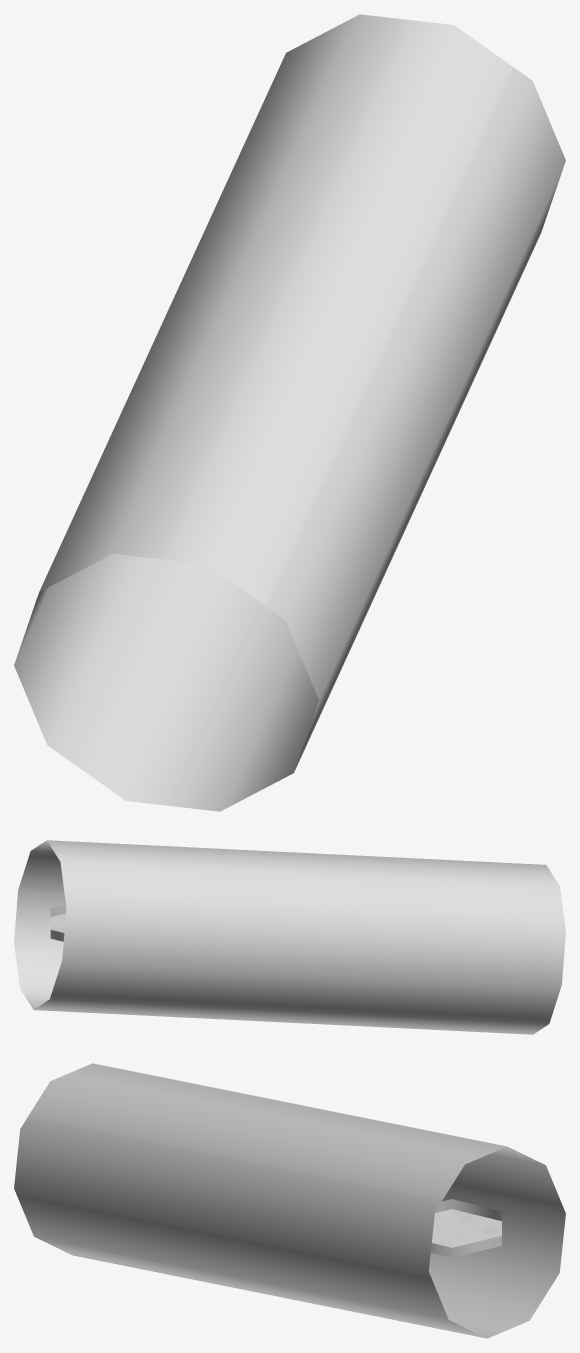
The model's file is trusssignalarm_diagonal5_c4.obj.
The picture shows the model from 3 angles, top to bottom: view 1: azimuth 30°, elevation 25°; view 2: azimuth 150°, elevation 25°; view 3: azimuth 270°, elevation 25°; orthographic projection. The views are drawn at different scales.
Visible parts, largest first — view 1: trusssignalarm_diagonal5_c4; view 2: trusssignalarm_diagonal5_c4; view 3: trusssignalarm_diagonal5_c4.
Part boxes in pixels (left/top/right/bottom): trusssignalarm_diagonal5_c4: left=14, top=14, right=565, bottom=811; trusssignalarm_diagonal5_c4: left=14, top=840, right=565, bottom=1034; trusssignalarm_diagonal5_c4: left=14, top=1063, right=565, bottom=1338.
Size of the model in its own units: 0.7468 by 0.3835 by 0.7468.
